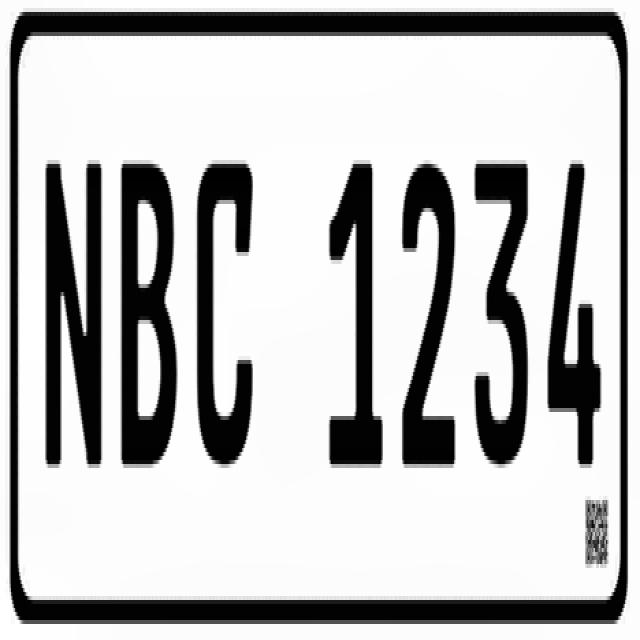license-plate: (7, 8, 630, 632)
